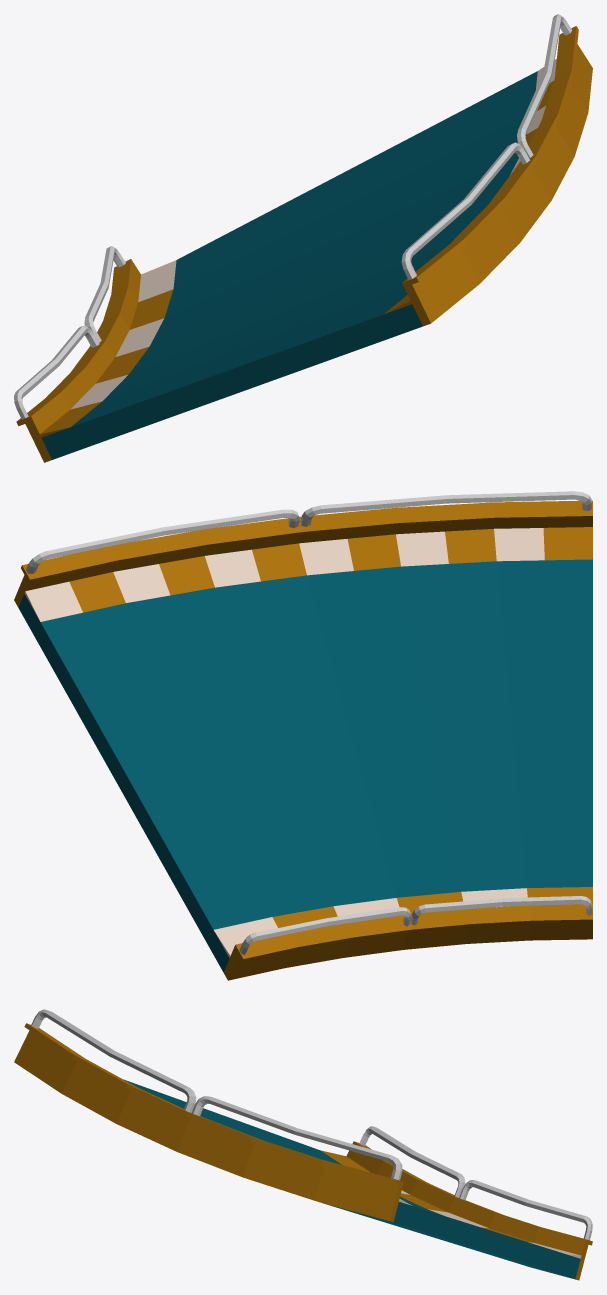
File: bankedRight-30-30_s.FBX
The picture shows the model from 3 angles, top to bottom: view 1: azimuth 30°, elevation 25°; view 2: azimuth 150°, elevation 25°; view 3: azimuth 270°, elevation 25°; orthographic projection. The views are drawn at different scales.
Visible parts, largest first — view 1: bankedRight-30-30_s, wall_l, wall_r, curbs_r, curbs_l; view 2: bankedRight-30-30_s, wall_l, curbs_l, wall_r, curbs_r; view 3: wall_l, wall_r, bankedRight-30-30_s, curbs_r.
Part boxes in pixels (x1,y1,x2,y2): bankedRight-30-30_s: (41,71,537,459); wall_l: (401,14,592,326); wall_r: (14,246,140,462); curbs_r: (40,260,176,437); curbs_l: (384,59,556,314); bankedRight-30-30_s: (18,559,592,972); wall_l: (14,491,592,607); curbs_l: (24,527,592,621); wall_r: (223,896,592,980); curbs_r: (214,887,592,957); wall_l: (14,1009,403,1221); wall_r: (346,1126,592,1280); bankedRight-30-30_s: (124,1079,580,1278); curbs_r: (321,1150,581,1258).
Size of what is drawn, in the model's own units: 264 by 126 by 264.
